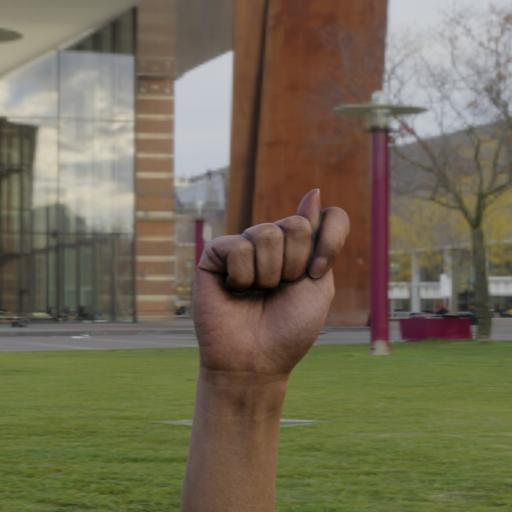T: (184, 186, 358, 371)
